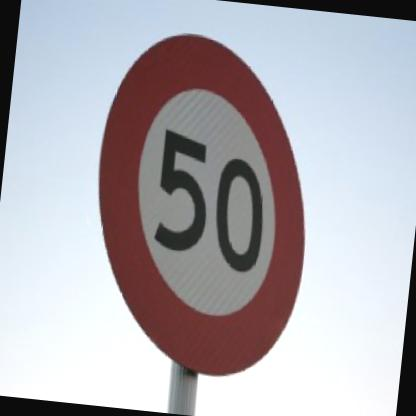speedlimit: (75, 22, 326, 384)
